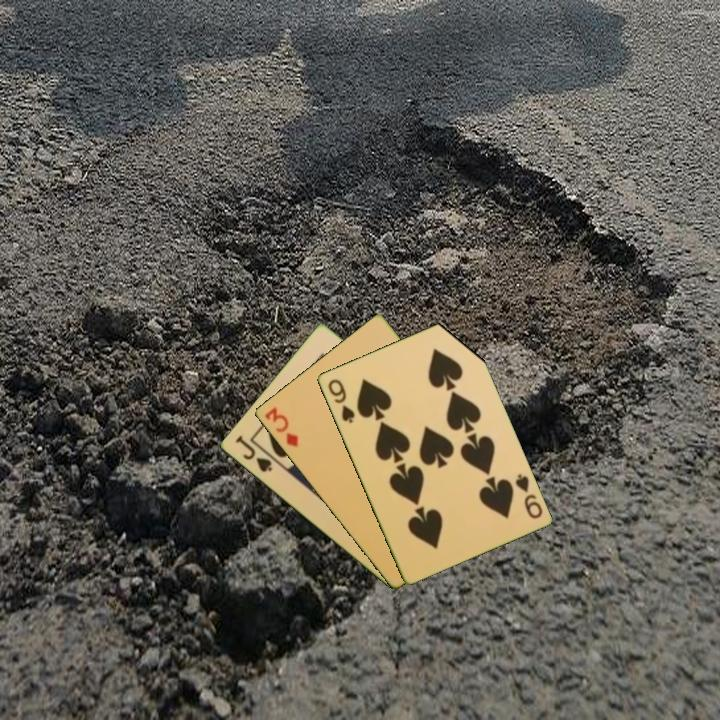3d: (260, 404, 301, 450)
9s: (511, 470, 545, 522), (324, 375, 357, 426)
Js: (231, 432, 275, 475)
